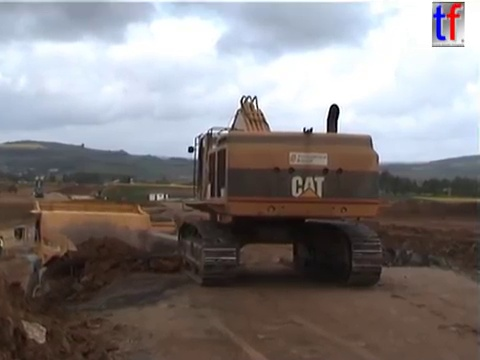excavator: (170, 91, 385, 289), (90, 178, 125, 201)
truck: (12, 198, 213, 318), (89, 201, 176, 249), (5, 181, 18, 192)
worker: (1, 233, 5, 260)
